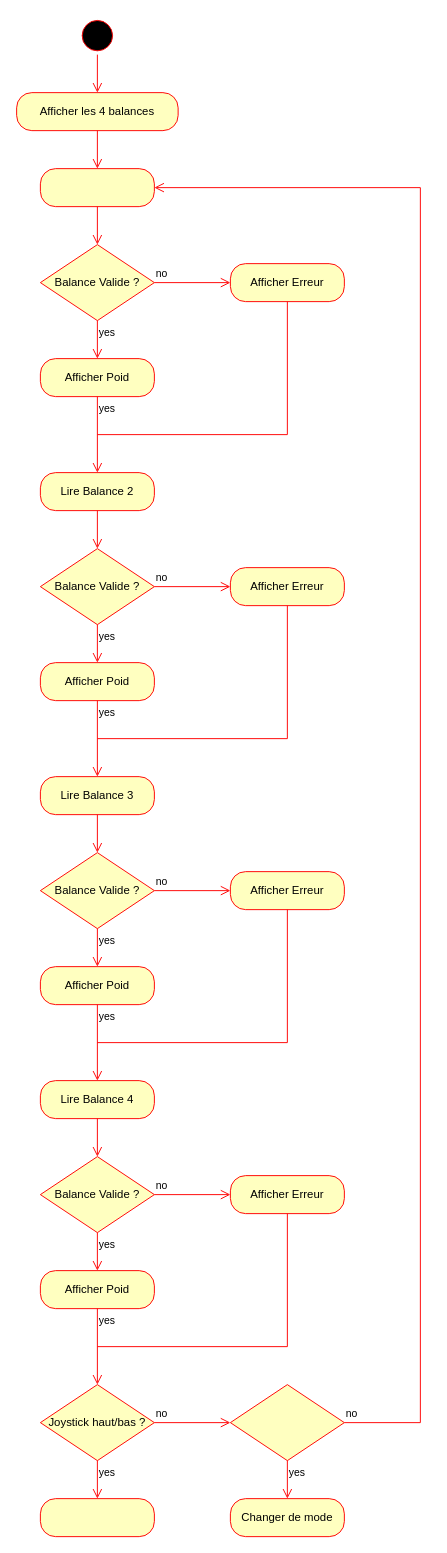
This 447x1553 diagram has some shape labels left out. The centre of each missing label's shape, as x and y in pixels:
Bouton C ?: the point at 286,1422
Changer de balance: the point at 96,1517
Lire Balance 1: the point at 96,187
